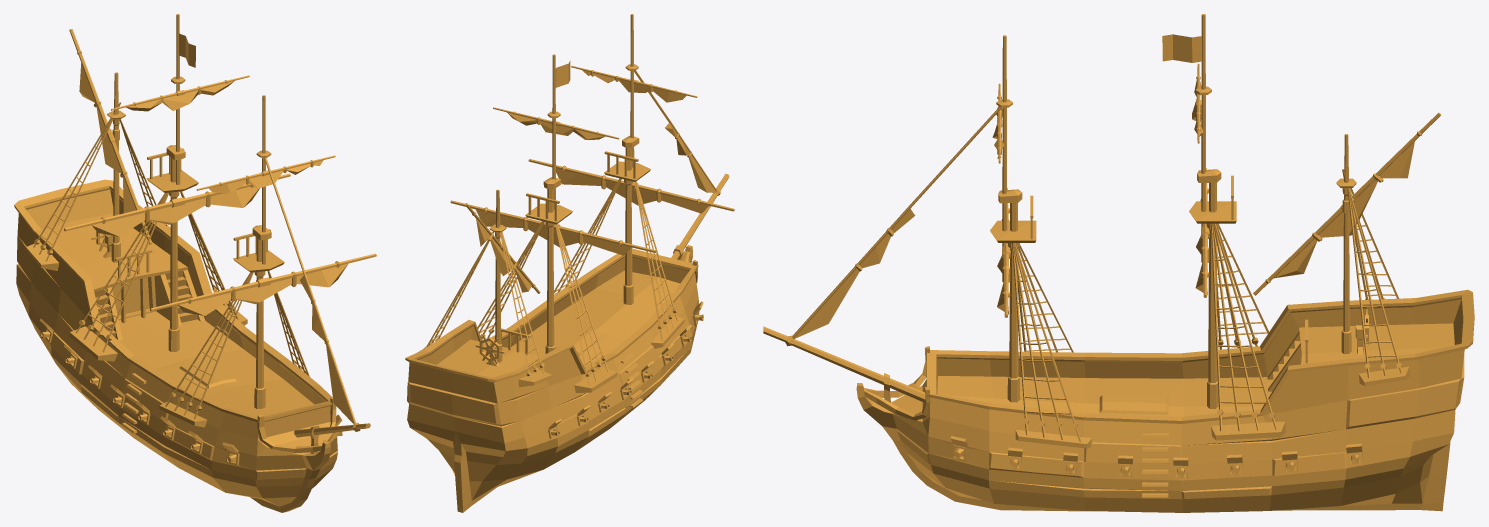
The model's file is ship-colonial-small.fbx.
3 views of the same model, side by side, from view 1: azimuth 30°, elevation 25°; view 2: azimuth 150°, elevation 25°; view 3: azimuth 270°, elevation 25° (orthographic). The views are drawn at different scales.
Visible parts, largest first — view 1: ship-colonial-small; view 2: ship-colonial-small; view 3: ship-colonial-small.
Boxes of the visible parts, box(x1,y1,x2,y2) form: ship-colonial-small: box(14, 14, 376, 512); ship-colonial-small: box(405, 14, 734, 512); ship-colonial-small: box(763, 14, 1474, 512).
Bounding box in the file's own units: 12.22 × 22.17 × 28.88.
